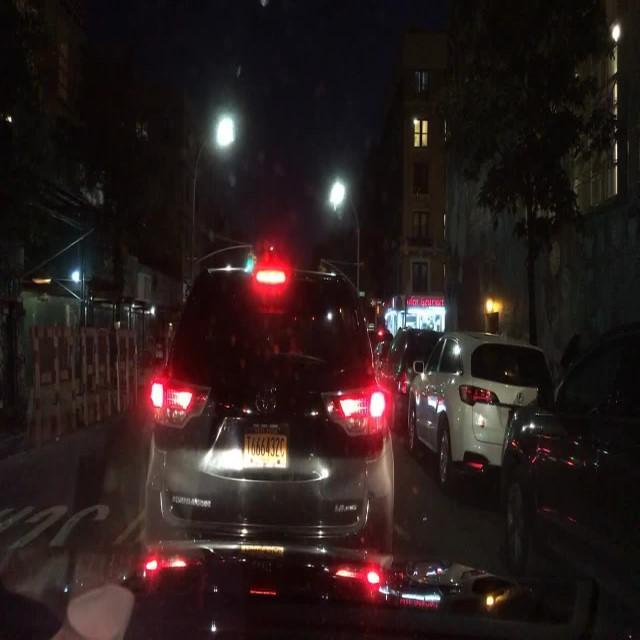normal: (106, 226, 425, 574), (404, 333, 554, 493)
